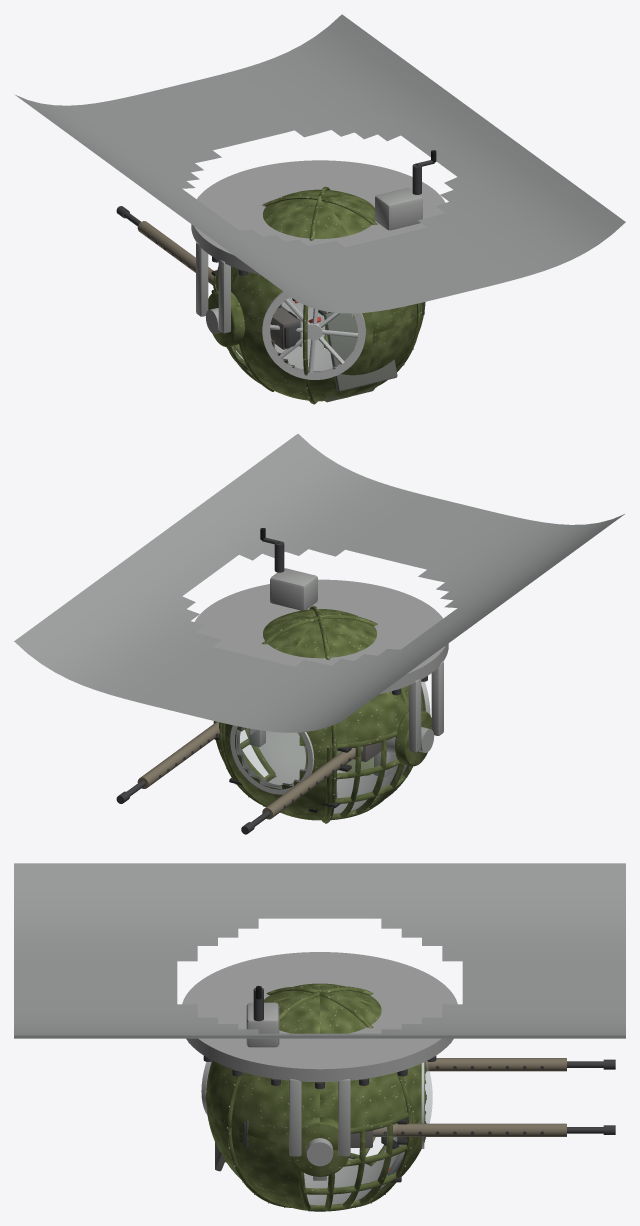
File: b24-ball-turret.glb
The picture shows the model from 3 angles, top to bottom: view 1: azimuth 30°, elevation 25°; view 2: azimuth 150°, elevation 25°; view 3: azimuth 270°, elevation 25°; orthographic projection. The views are drawn at different scales.
Parts seen in each view (by area): view 1: neutral_gray, aluminium_dull, olive_drab, aluminium, armour_plate, gunmetal, barrel_jacket, parkerized; view 2: neutral_gray, aluminium_dull, olive_drab, armour_glass, barrel_jacket, aluminium, gunmetal; view 3: neutral_gray, aluminium_dull, olive_drab, barrel_jacket, gunmetal, aluminium.
Boxes of the visible parts, bbox=[...] form: neutral_gray: bbox=[14, 14, 625, 313]; aluminium_dull: bbox=[191, 160, 445, 404]; olive_drab: bbox=[208, 187, 425, 403]; aluminium: bbox=[262, 291, 365, 379]; armour_plate: bbox=[324, 312, 397, 391]; gunmetal: bbox=[116, 160, 434, 347]; barrel_jacket: bbox=[137, 221, 214, 285]; parkerized: bbox=[270, 307, 424, 349]; neutral_gray: bbox=[14, 434, 624, 732]; aluminium_dull: bbox=[194, 568, 448, 823]; olive_drab: bbox=[213, 606, 431, 823]; armour_glass: bbox=[237, 727, 305, 786]; barrel_jacket: bbox=[137, 721, 362, 819]; aluminium: bbox=[230, 681, 430, 794]; gunmetal: bbox=[116, 537, 427, 834]; neutral_gray: bbox=[14, 863, 625, 1038]; aluminium_dull: bbox=[182, 952, 457, 1207]; olive_drab: bbox=[206, 983, 426, 1211]; barrel_jacket: bbox=[373, 1058, 566, 1136]; gunmetal: bbox=[189, 988, 615, 1144]; aluminium: bbox=[201, 1061, 424, 1148].
Bounding box in the file's own units: 2 × 1.42 × 3.
Materials: 19 (2 with a texture image).
